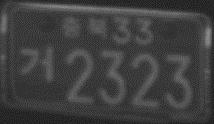2: (63, 47, 96, 103), (130, 52, 160, 107)
3: (99, 48, 128, 106), (165, 54, 193, 108), (133, 17, 155, 45), (110, 15, 131, 44)
거: (20, 45, 56, 84)
충북_O: (62, 15, 107, 40)
